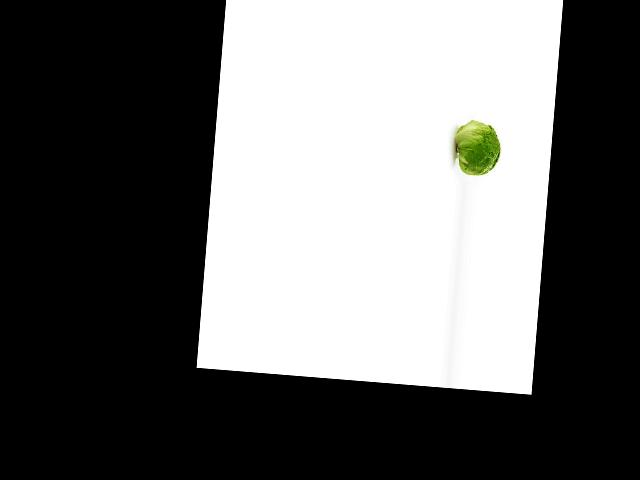lettuce: (455, 119, 504, 184)
